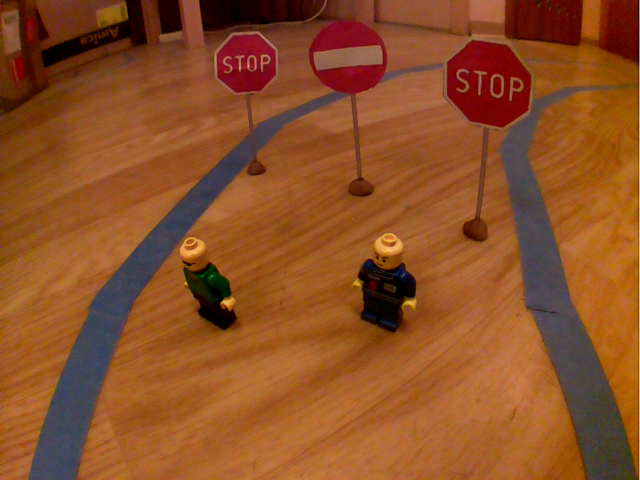Postac LEGO: (344, 227, 425, 341), (174, 233, 245, 336)
Stop: (434, 34, 542, 137), (207, 25, 281, 100)
Zakaz: (306, 15, 392, 101)
